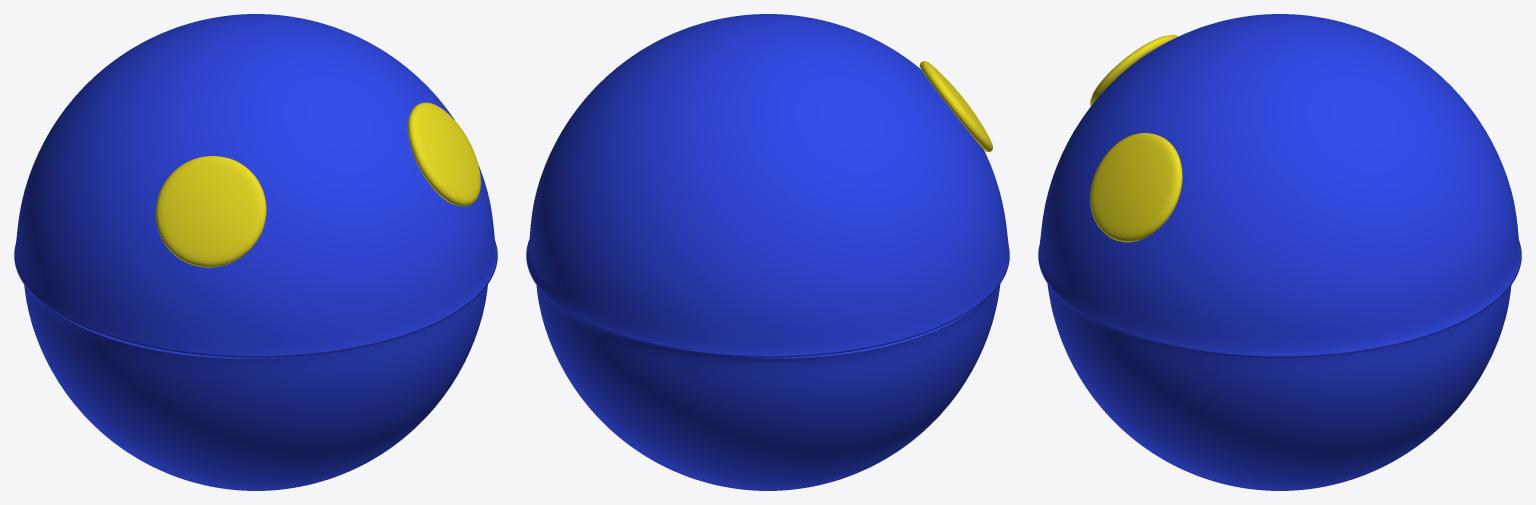
File: SnakeHeadExp.fbx
The picture shows the model from 3 angles, left to right: view 1: azimuth 30°, elevation 25°; view 2: azimuth 150°, elevation 25°; view 3: azimuth 270°, elevation 25°; orthographic projection.
Visible parts, largest first — view 1: Sphere, Sphere.001, Circle; view 2: Sphere, Sphere.001, Circle; view 3: Sphere, Sphere.001, Circle.
Part boxes in pixels (x1=…): Sphere: x1=14, y1=14, x2=497, y2=357; Sphere.001: x1=24, y1=284, x2=487, y2=490; Circle: x1=155, y1=102, x2=480, y2=267; Sphere: x1=526, y1=14, x2=1009, y2=357; Sphere.001: x1=536, y1=284, x2=1000, y2=490; Circle: x1=919, y1=61, x2=992, y2=151; Sphere: x1=1038, y1=14, x2=1521, y2=357; Sphere.001: x1=1047, y1=284, x2=1511, y2=490; Circle: x1=1090, y1=34, x2=1182, y2=242.
Bounding box in the file's own units: 204 × 202 × 204.
